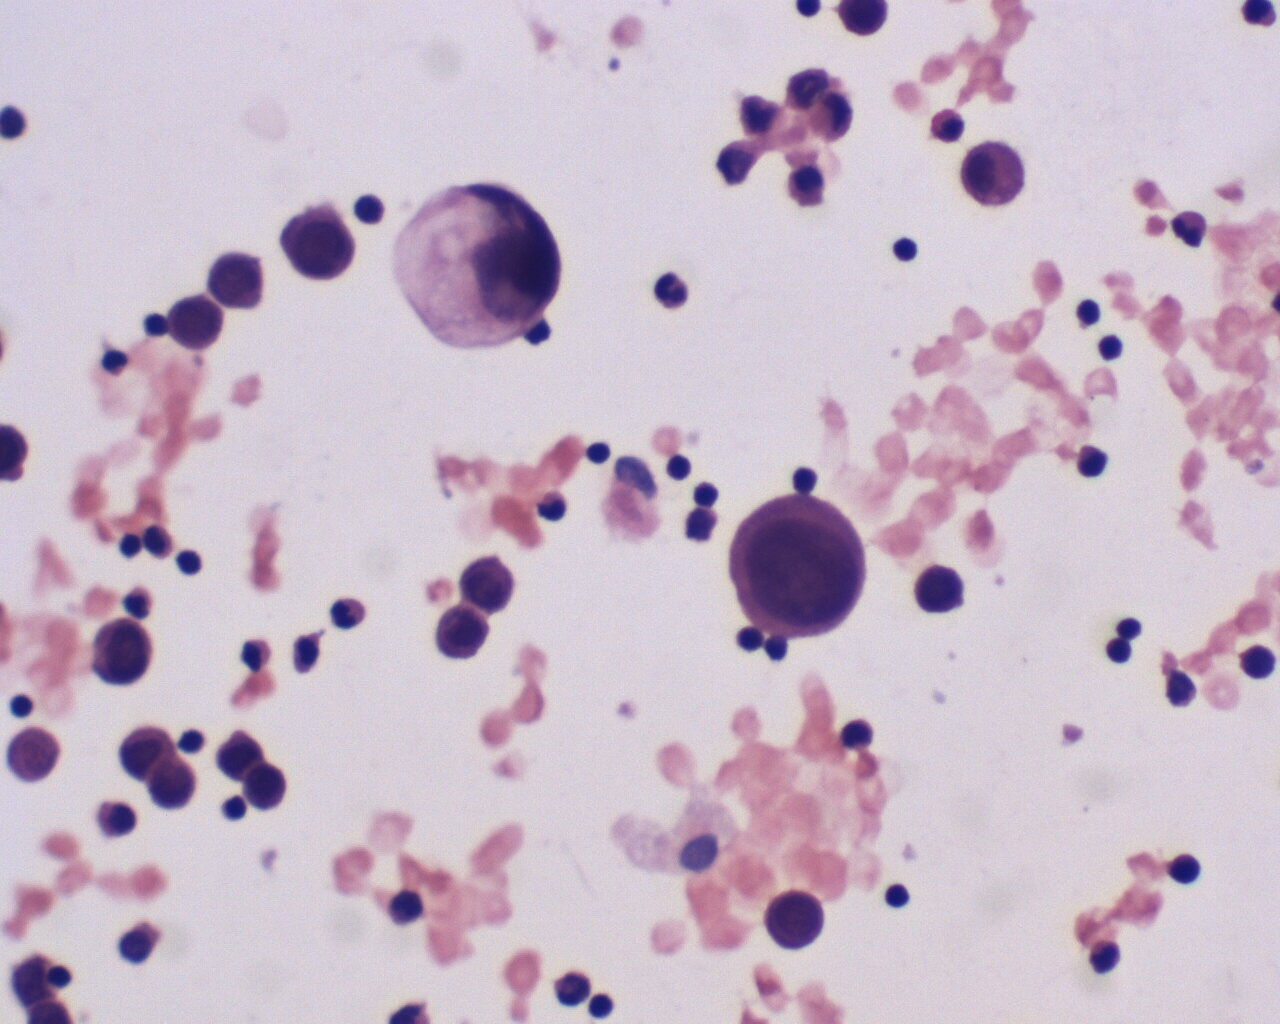ab: (380, 176, 566, 354), (726, 495, 874, 637), (276, 202, 360, 285), (760, 880, 833, 958), (83, 615, 155, 689), (453, 550, 516, 614), (115, 724, 178, 787), (5, 722, 65, 788), (168, 293, 226, 357), (430, 608, 490, 670)
lymph: (885, 230, 927, 275), (1091, 327, 1127, 366), (171, 546, 208, 584), (881, 876, 914, 915), (1073, 295, 1108, 332), (587, 988, 623, 1024), (661, 451, 695, 486), (1114, 613, 1149, 645)
meso: (959, 139, 1032, 212)
neutro: (1167, 202, 1209, 254), (647, 267, 691, 315), (327, 595, 368, 637)
